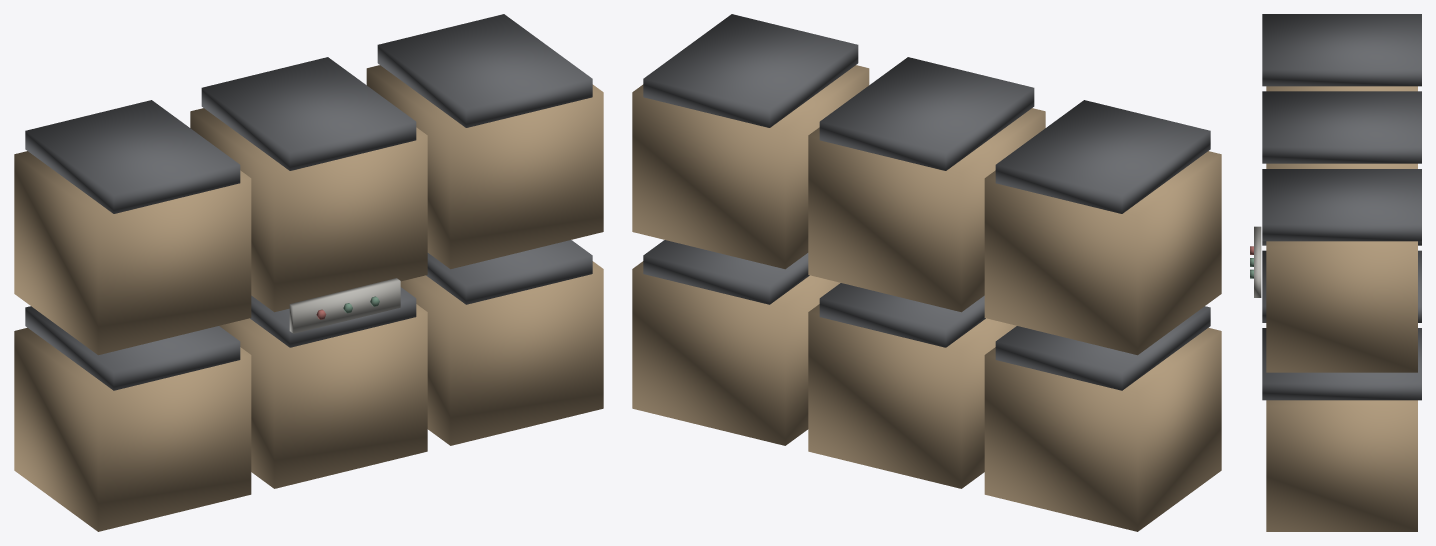
Rendered from produce_stand__tall.glb.
3 views of the same model, side by side, from view 1: azimuth 30°, elevation 25°; view 2: azimuth 150°, elevation 25°; view 3: azimuth 270°, elevation 25° (orthographic). The views are drawn at different scales.
Visible parts, largest first — view 1: world; view 2: world; view 3: world.
Boxes of the visible parts, box(x1,y1,x2,y2) form: world: box(14, 14, 603, 531); world: box(632, 14, 1221, 531); world: box(1250, 14, 1421, 531).
Bounding box in the file's own units: 1.32 × 0.8352 × 0.431.
